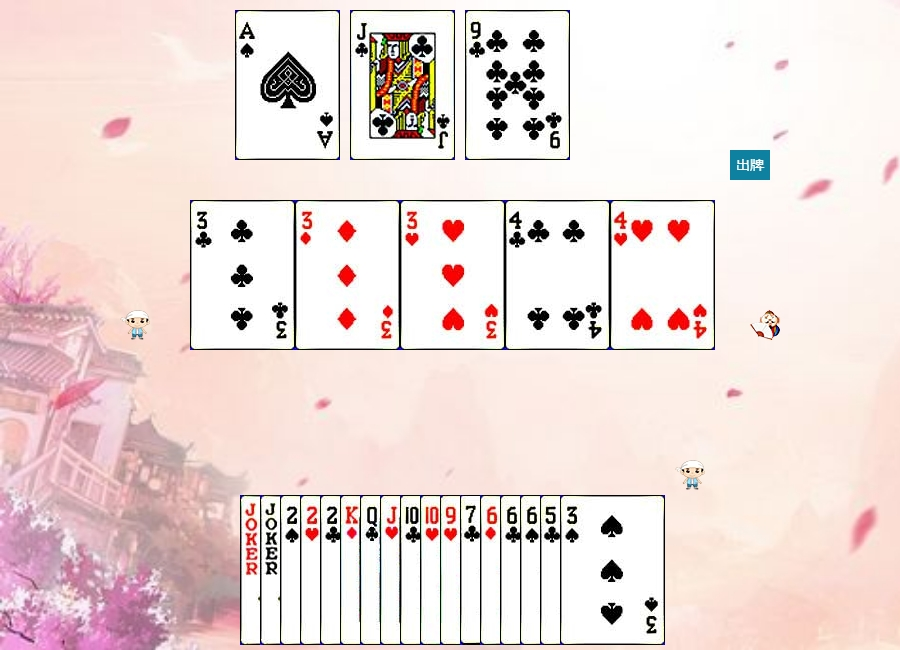10~2: (400, 495, 505, 645)
10~3: (420, 495, 525, 645)
11~2: (350, 10, 455, 160)
11~3: (380, 495, 485, 645)
12~2: (360, 495, 465, 645)
13~1: (340, 495, 445, 645)
14~4: (235, 10, 340, 160)
15~2: (320, 495, 425, 645)
15~3: (300, 495, 405, 645)
15~4: (280, 495, 385, 645)
17~3: (260, 495, 365, 645)
18~4: (240, 495, 345, 645)
3~1: (295, 200, 400, 350)
3~2: (190, 200, 295, 350)
3~3: (400, 200, 505, 350)
3~4: (560, 495, 665, 645)
4~2: (505, 200, 610, 350)
4~3: (610, 200, 715, 350)
5~2: (540, 495, 645, 645)
6~1: (480, 495, 585, 645)
6~2: (500, 495, 605, 645)
6~4: (520, 495, 625, 645)
7~2: (460, 495, 565, 645)
9~2: (465, 10, 570, 160)
9~3: (440, 495, 545, 645)
